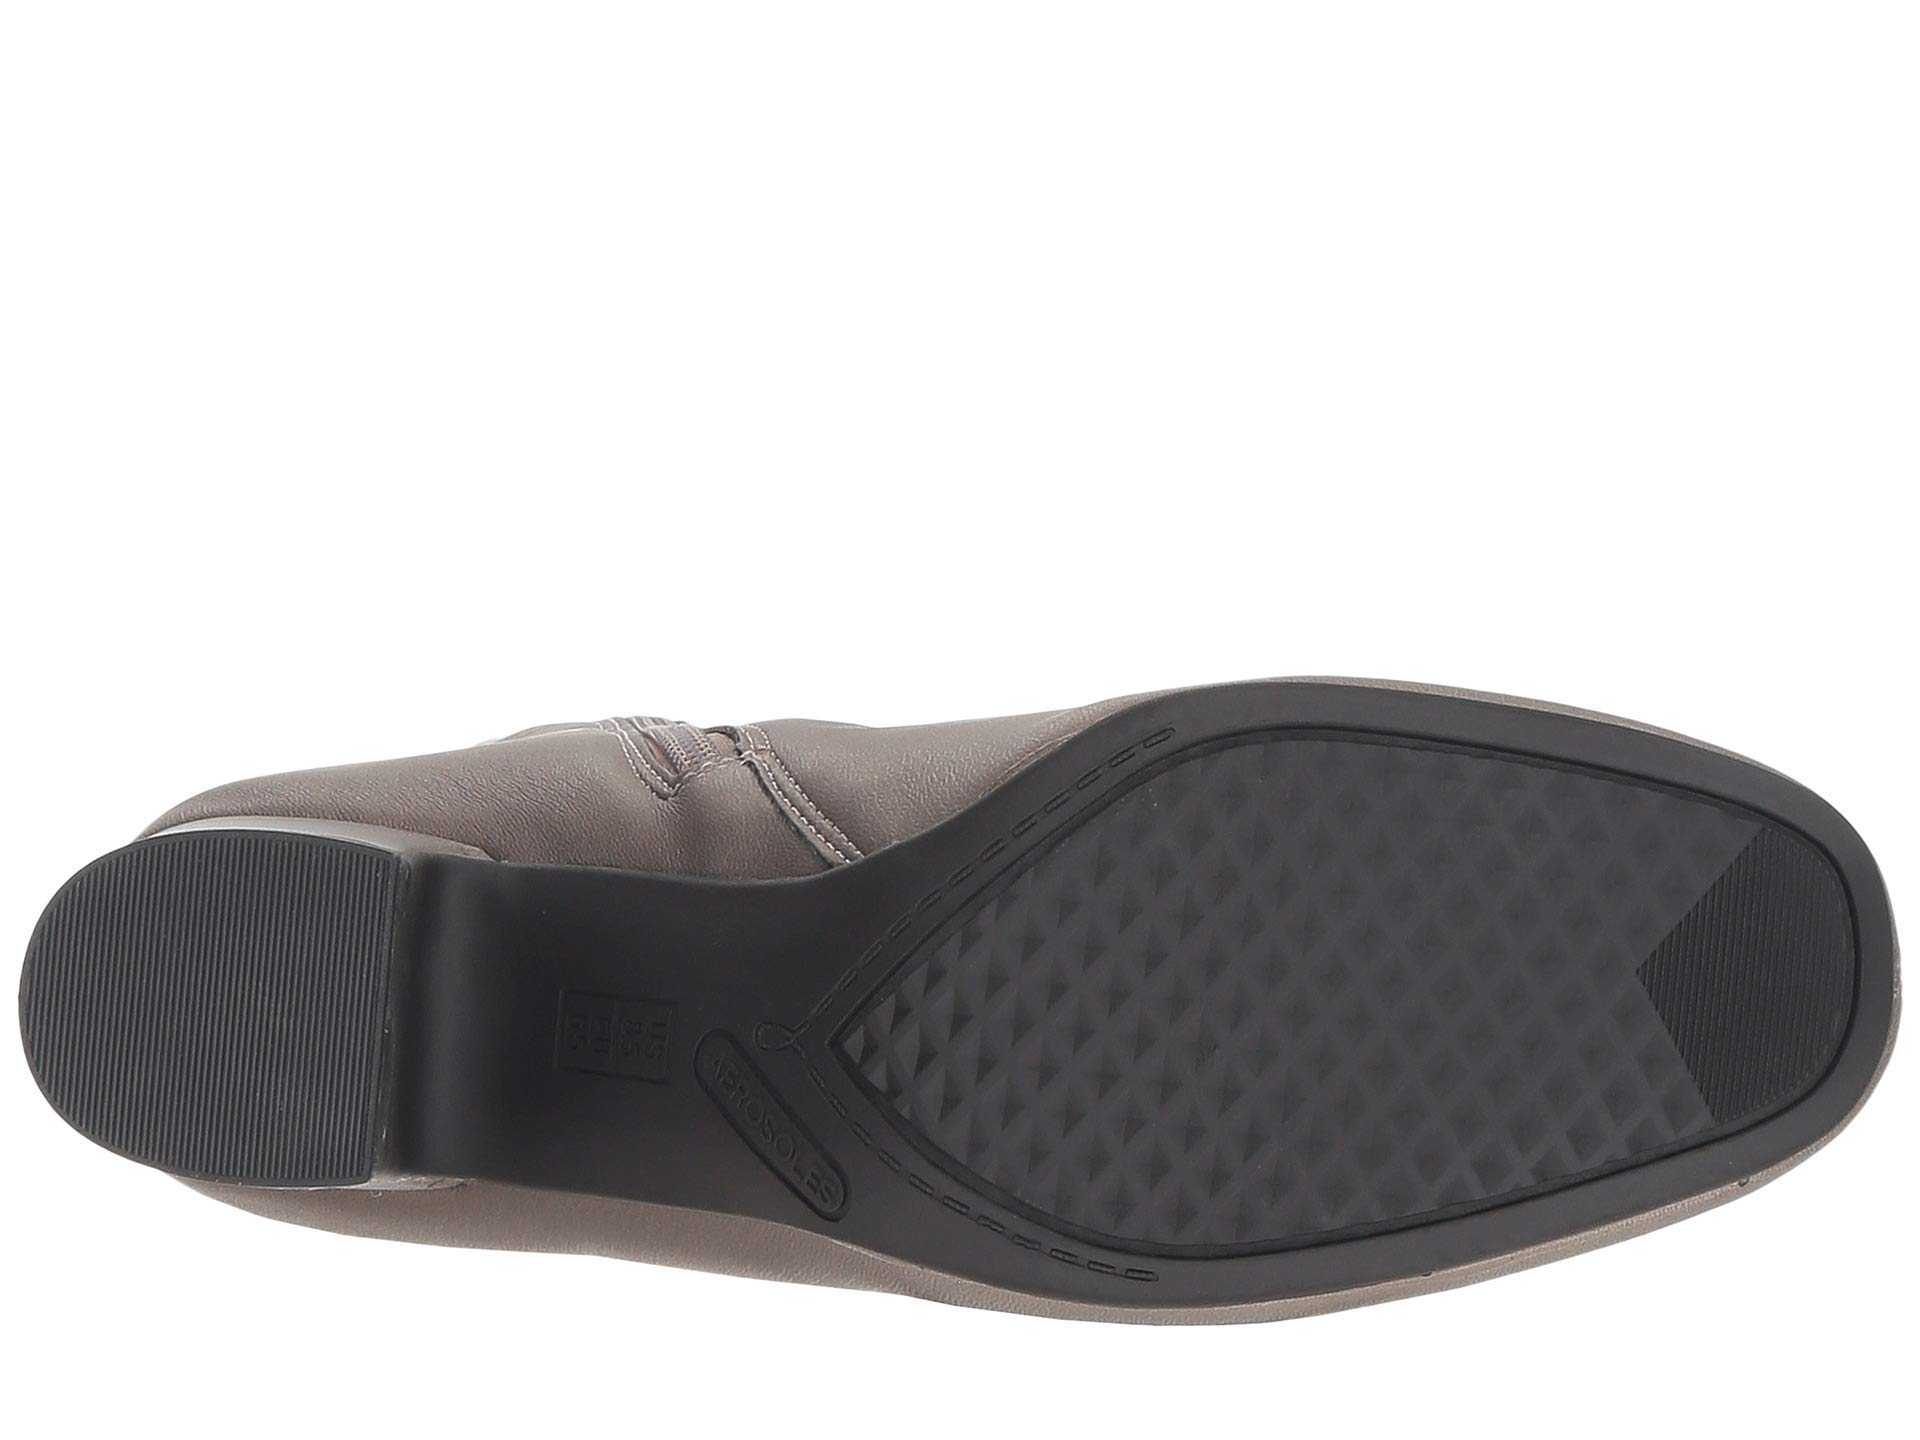line: (89, 888, 366, 1122), (689, 1024, 865, 1234), (1728, 902, 1819, 1024)
quad: (1092, 782, 1631, 1165), (689, 1024, 865, 1234), (509, 967, 680, 1109)
text: (689, 1024, 865, 1234), (509, 967, 680, 1109)
